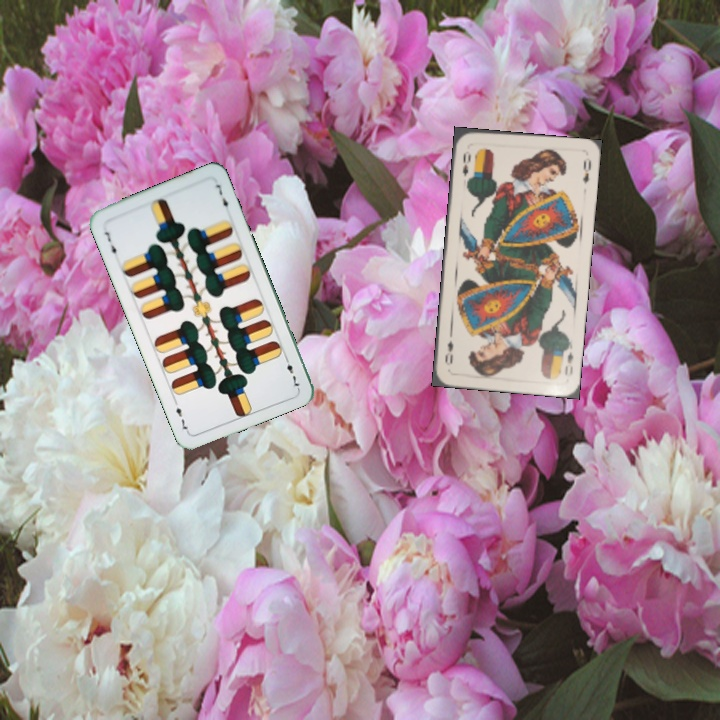E7: (280, 352, 302, 391), (101, 227, 119, 261)
EO: (458, 147, 473, 179), (561, 348, 576, 377)
